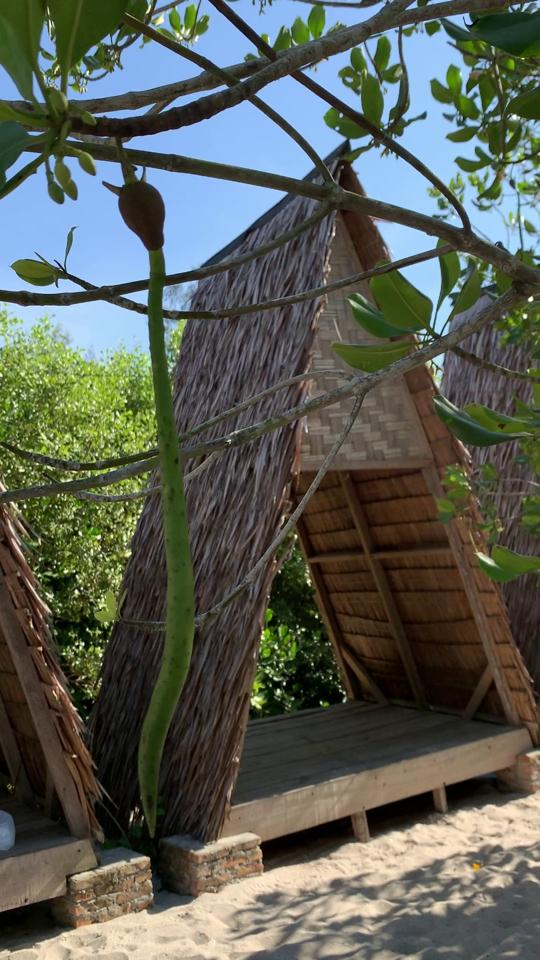setengah matang: (93, 153, 205, 849)
